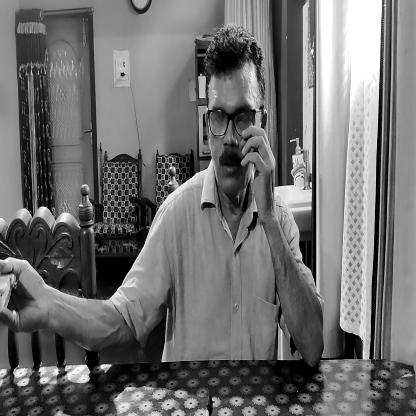Normal: (195, 23, 268, 206)
